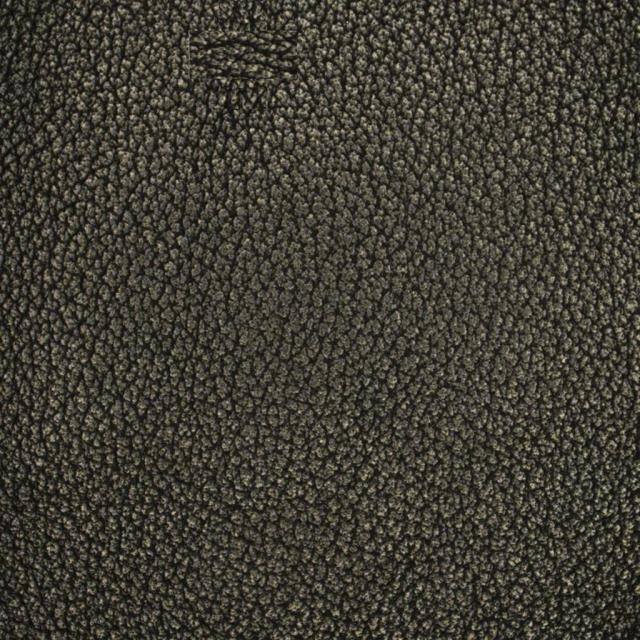Healed Injury: (175, 27, 327, 208)
